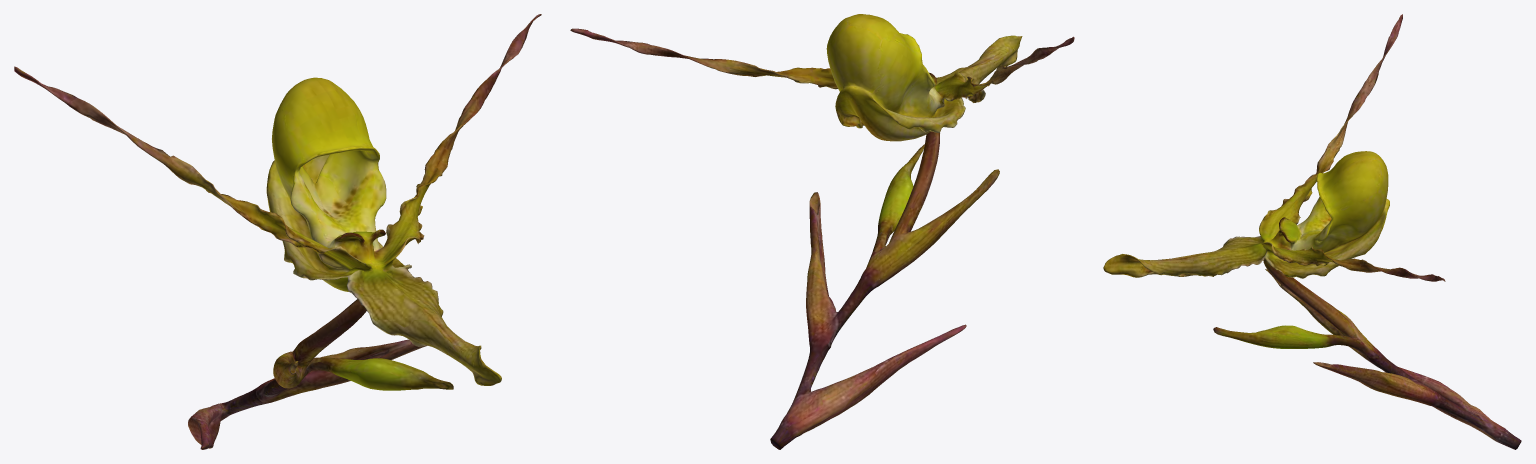
File: phragmipedium-preview.glb
The picture shows the model from 3 angles, left to right: view 1: azimuth 30°, elevation 25°; view 2: azimuth 150°, elevation 25°; view 3: azimuth 270°, elevation 25°; orthographic projection. The views are drawn at different scales.
Bounding box in the file's own units: 0.1135 × 0.0947 × 0.1043.
1 material, 1 textured.
